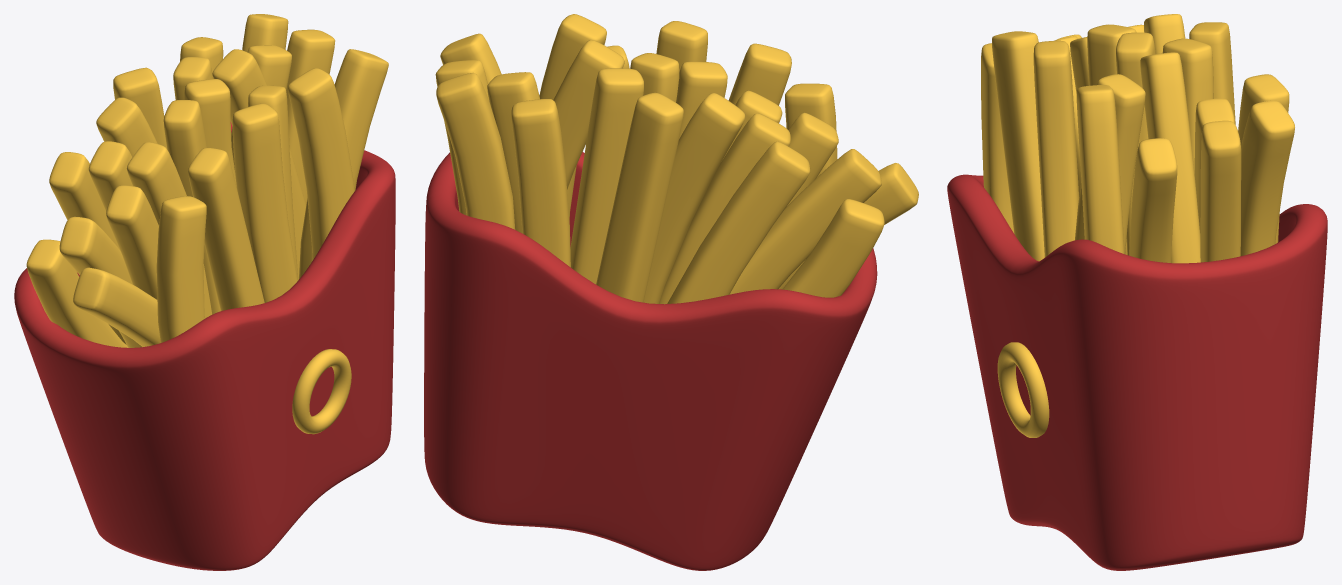
Rendered from french_fried_potatoes.glb.
3 renders of one model, left to right at view 1: azimuth 30°, elevation 25°; view 2: azimuth 150°, elevation 25°; view 3: azimuth 270°, elevation 25°, orthographic. The views are drawn at different scales.
Bounding box in the file's own units: 1.14 × 1.28 × 0.881.
